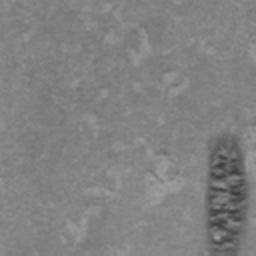Oxide scale of plate system: (204, 128, 250, 256)
